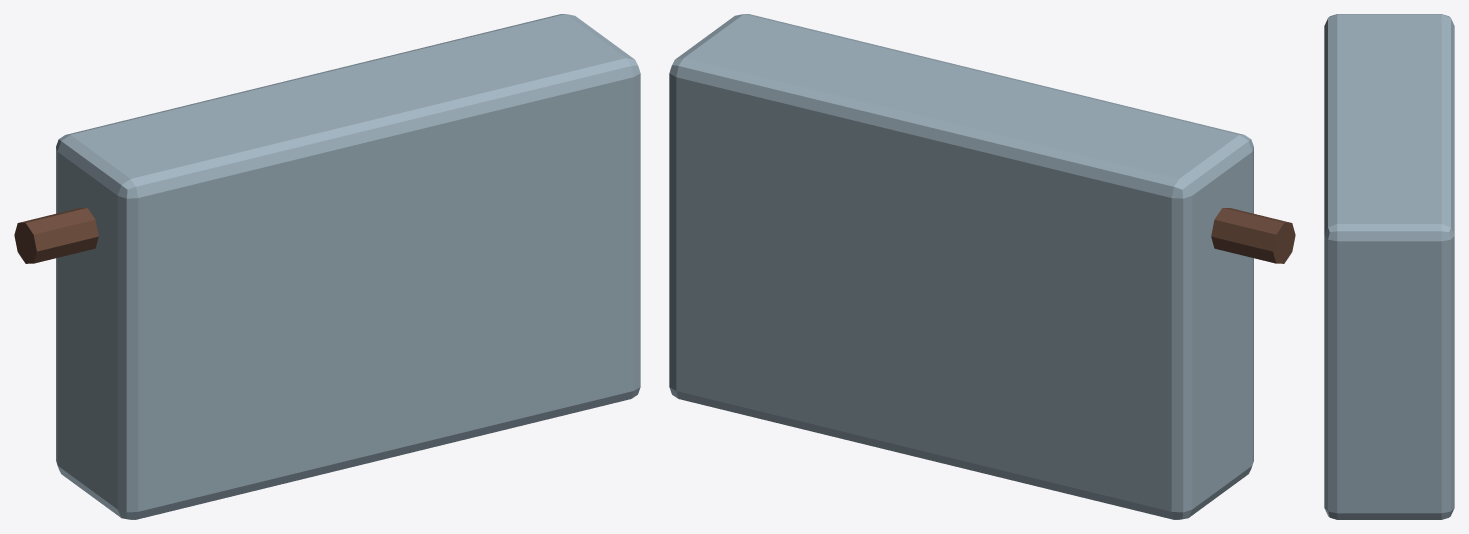
File: radiator.glb
The picture shows the model from 3 angles, left to right: view 1: azimuth 30°, elevation 25°; view 2: azimuth 150°, elevation 25°; view 3: azimuth 270°, elevation 25°; orthographic projection. The views are drawn at different scales.
Parts seen in each view (by area): view 1: radiator; view 2: radiator; view 3: radiator.
Boxes of the visible parts, x1,y1,x2,y2 form: radiator: (14, 14, 640, 519); radiator: (669, 14, 1295, 519); radiator: (1324, 14, 1454, 519).
Size of the model in its own units: 0.895 by 0.5 by 0.2.
